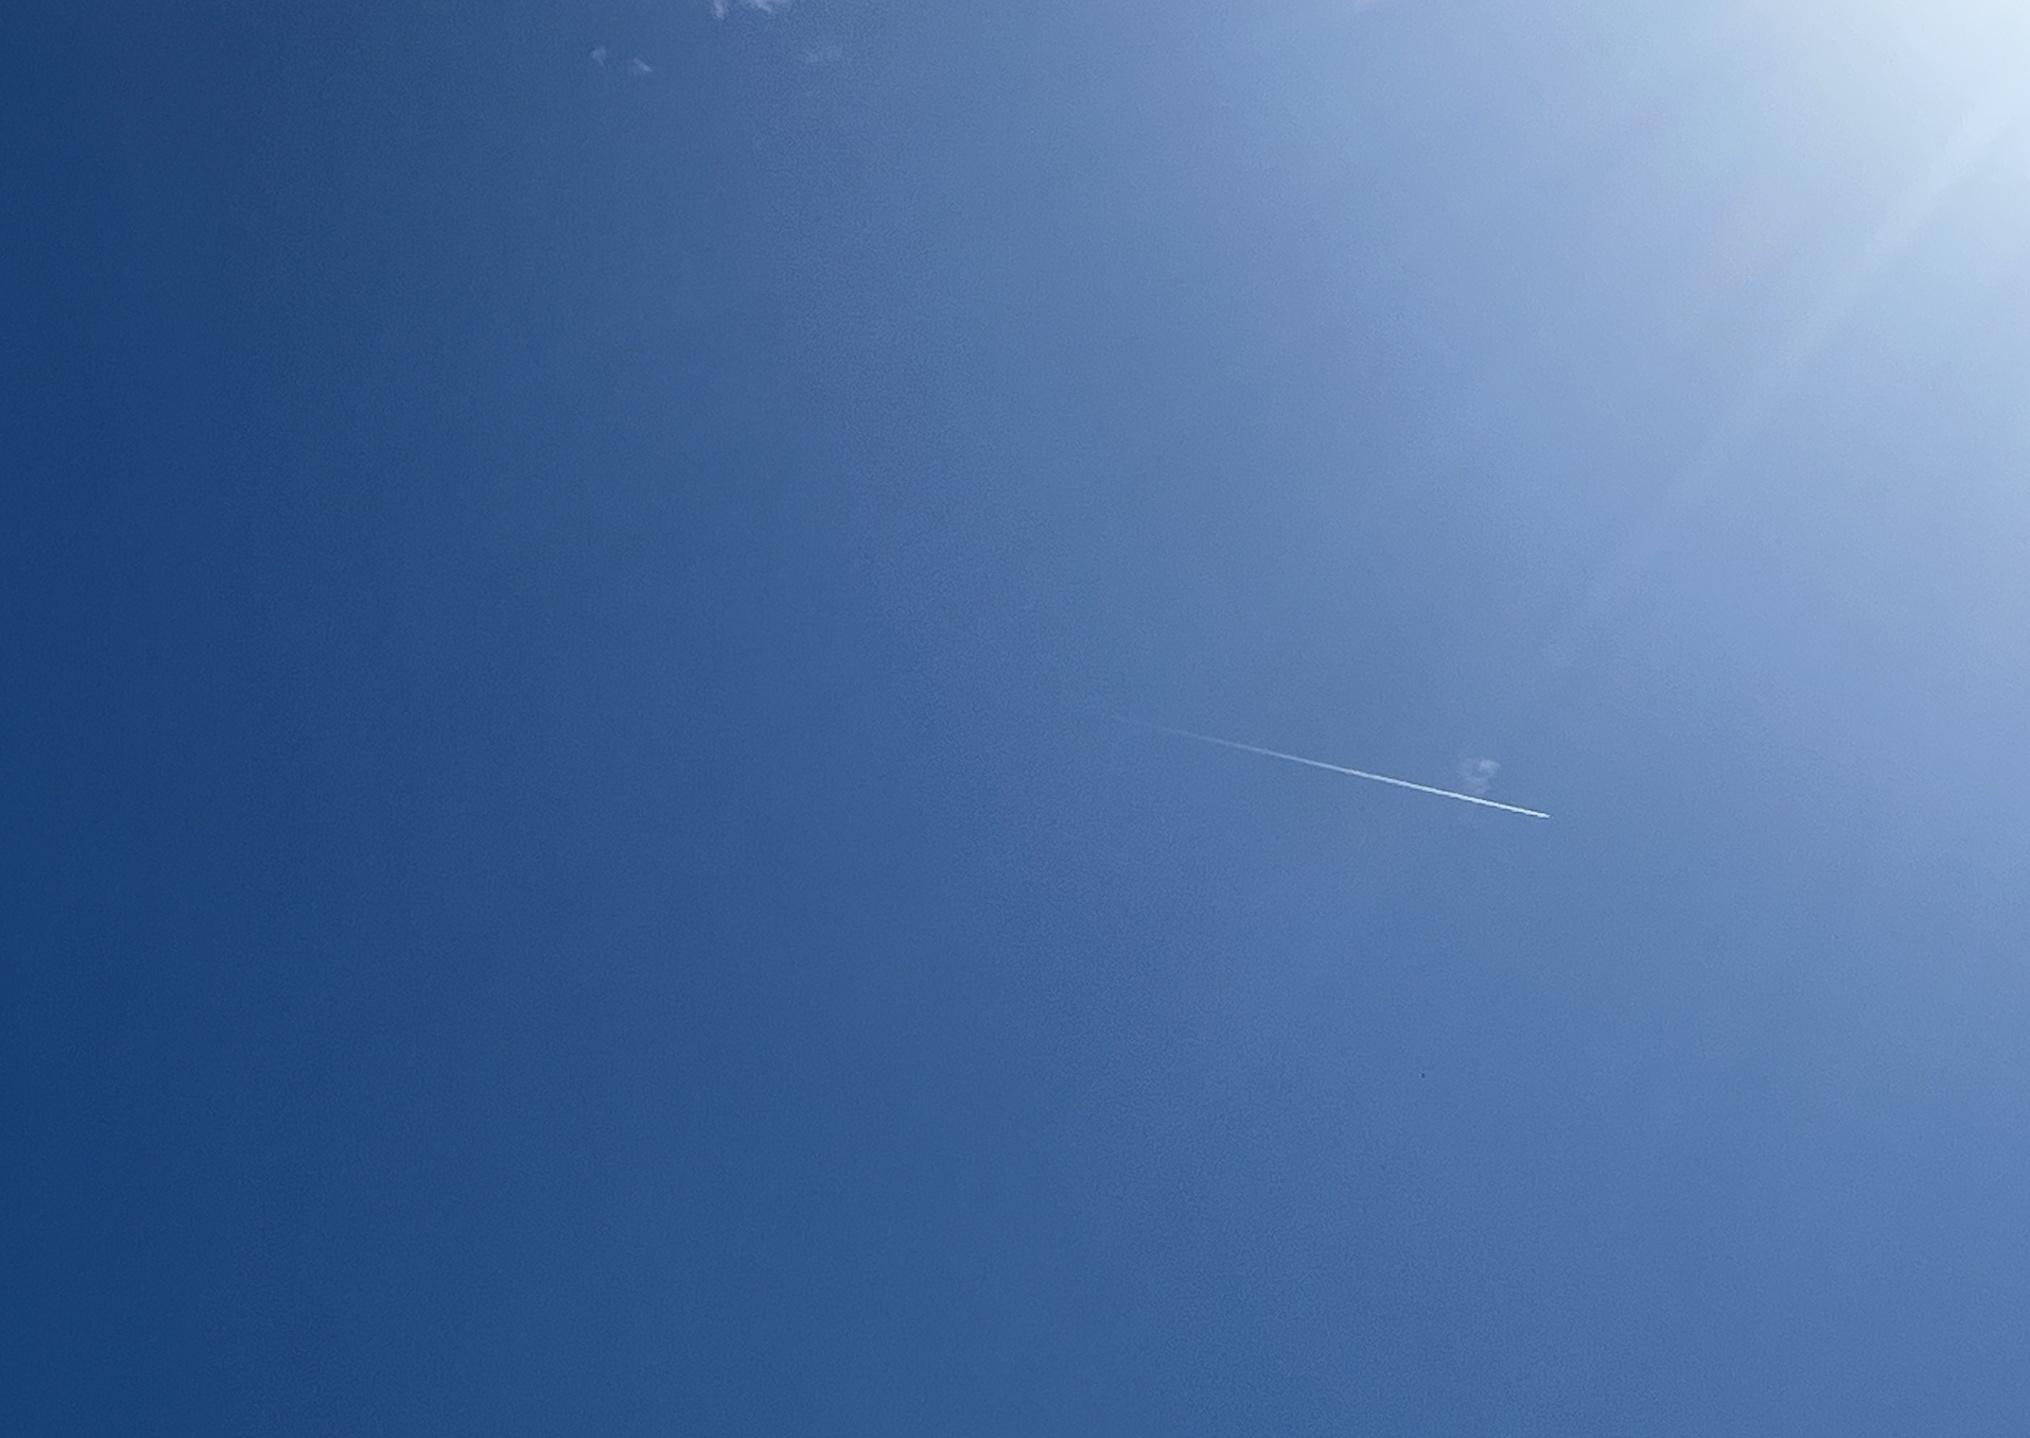Plane: (1115, 714, 1574, 842)
